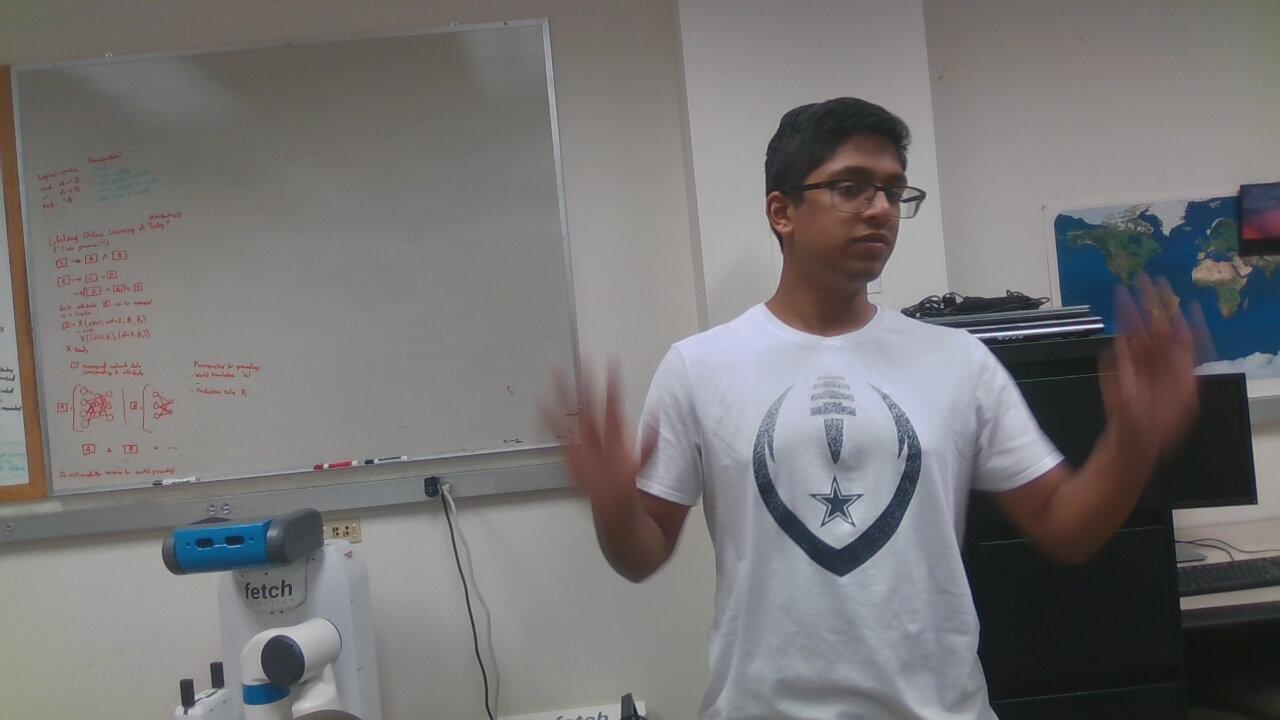hands: (1052, 261, 1249, 482), (534, 346, 691, 501)
